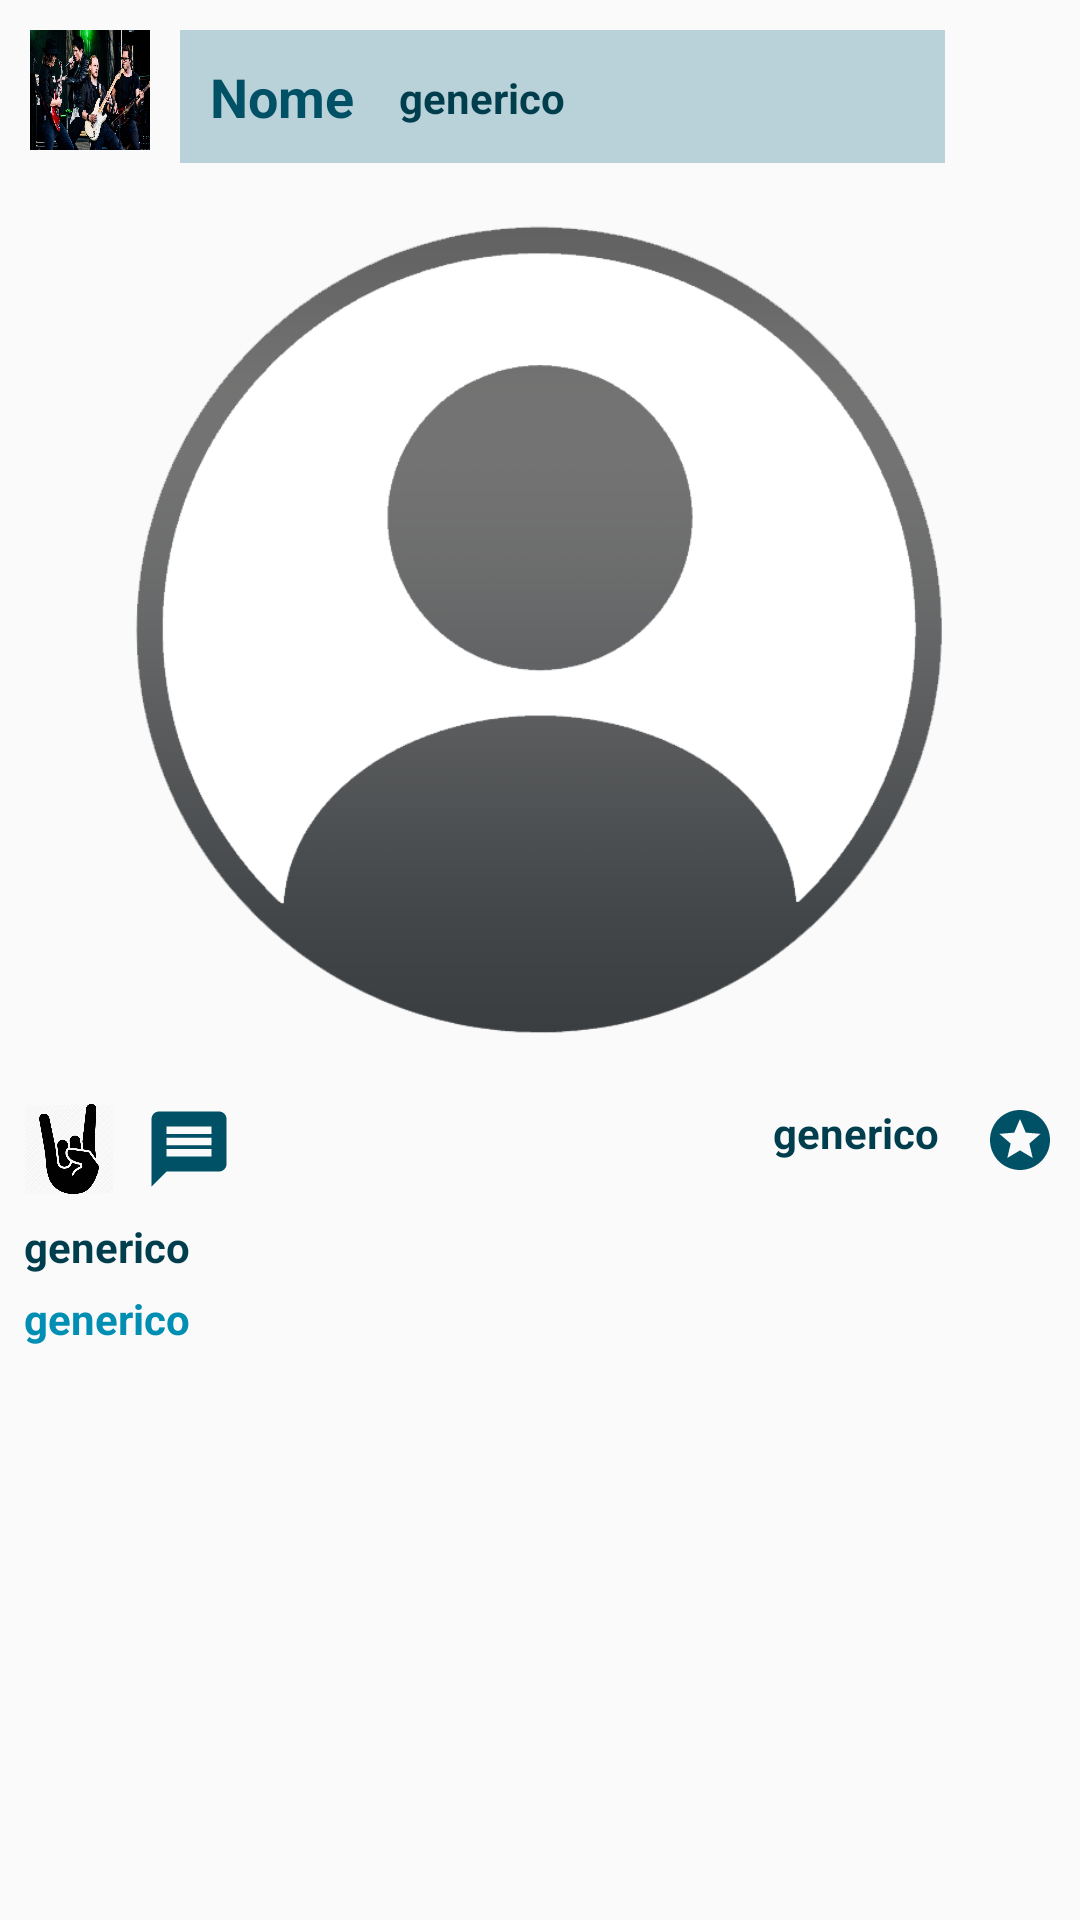

Icon click points for this 1080 x 1920 phone screenshot, format (x=x, y=y):
foto banda generica: (x=90, y=90)
message: (x=189, y=1149)
rock hand: (x=69, y=1149)
stars: (x=1020, y=1140)
